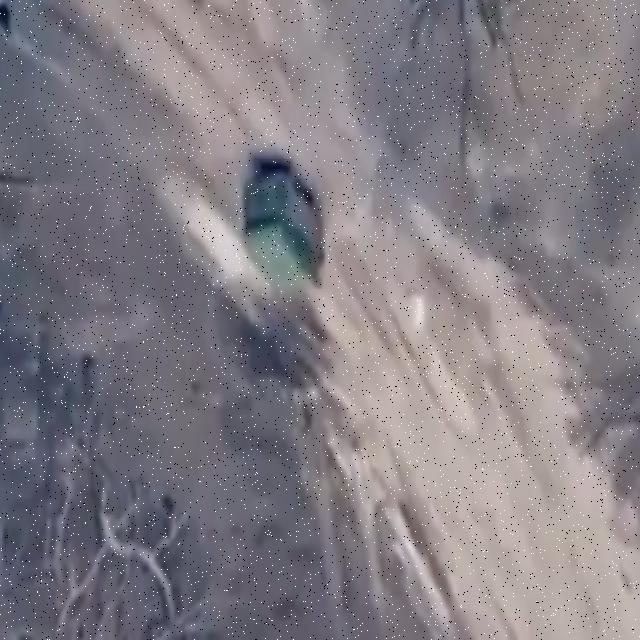CAR: (242, 160, 328, 306)
